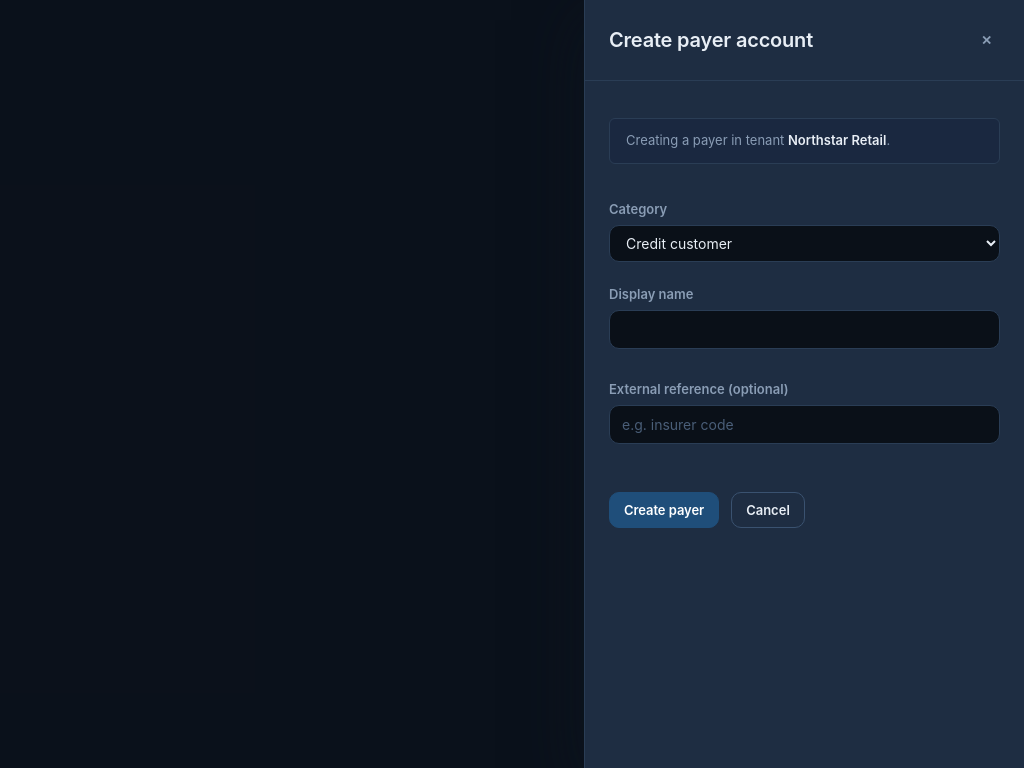
Test case: PayerCreate › 409 -> non-disclosing conflict banner
Type "MedCover Insurance" into the field labelled "Display name".
click(804, 330); type("MedCover Insurance")  # box left=609, top=310, right=1000, bottom=349
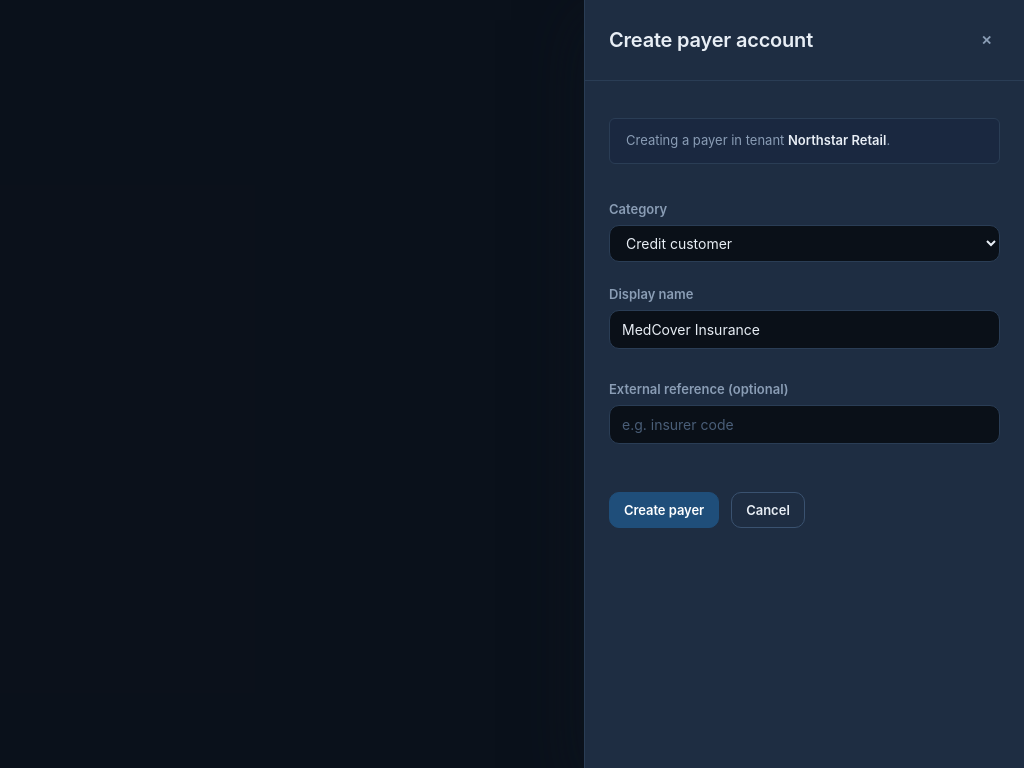
Click the button "Create payer".
click(664, 510)  # box left=609, top=492, right=719, bottom=528
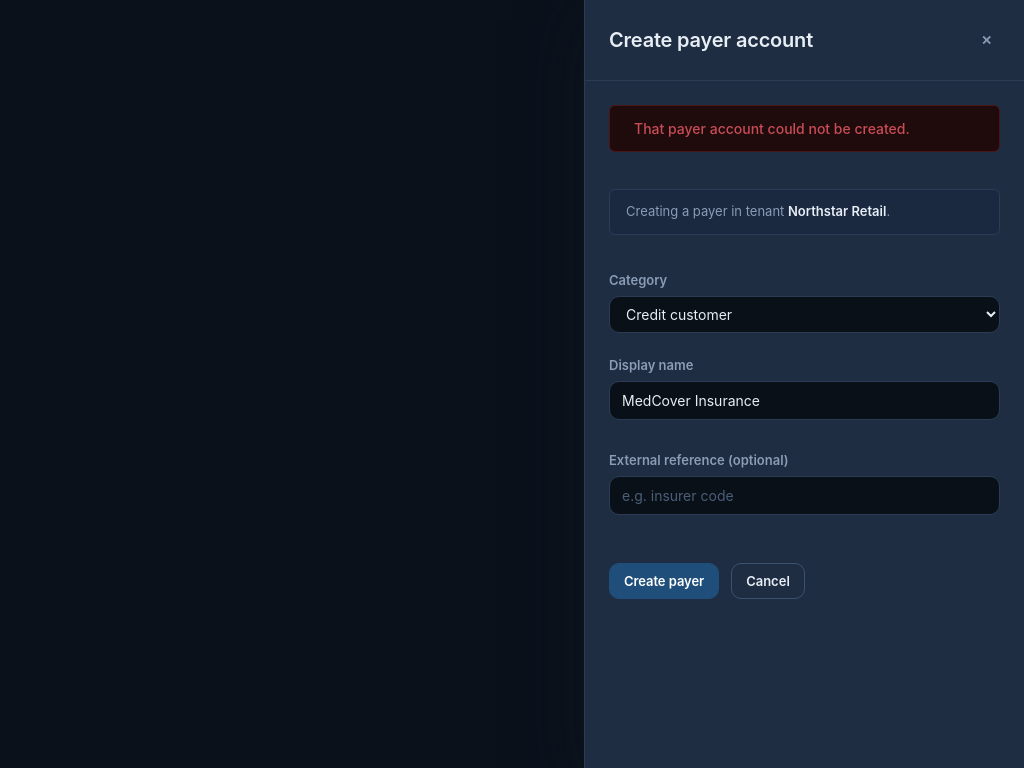
Check: the message "That payer account could not be created." is shown, box left=609, top=105, right=1000, bottom=152
